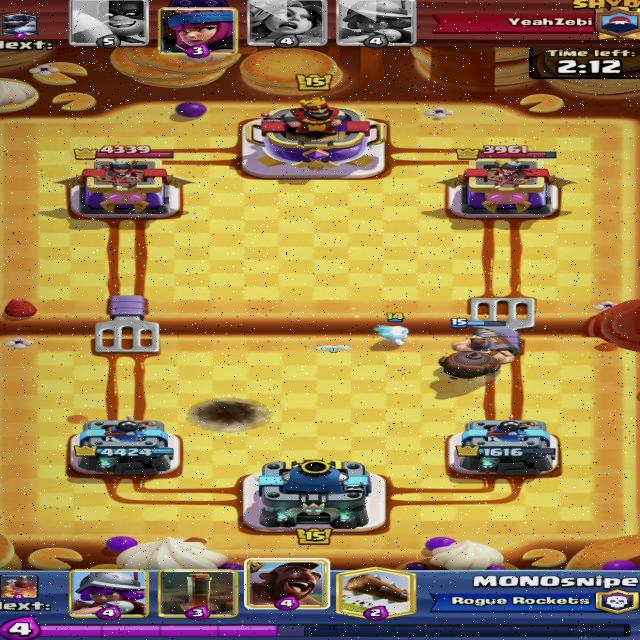Player-IceSpirit: (372, 311, 413, 348)
Player-MightyMiner: (437, 318, 520, 380)
